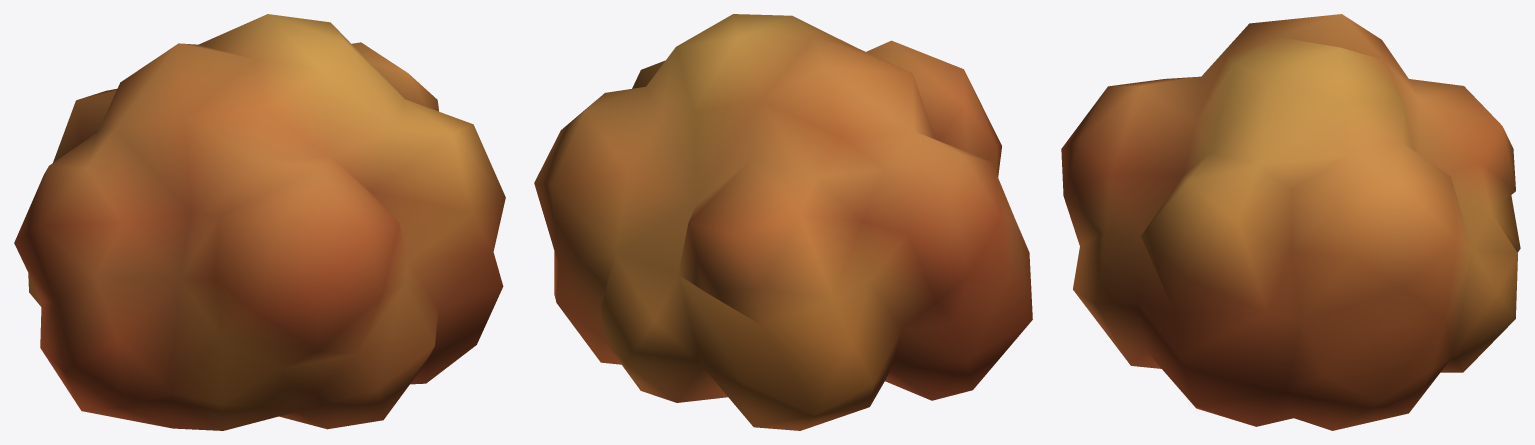
File: bush-a-autumn.lod1.glb
3 renders of one model, left to right at view 1: azimuth 30°, elevation 25°; view 2: azimuth 150°, elevation 25°; view 3: azimuth 270°, elevation 25°, orthographic. The views are drawn at different scales.
Parts seen in each view (by area): view 1: bush-a-autumn.lod1; view 2: bush-a-autumn.lod1; view 3: bush-a-autumn.lod1.
Boxes of the visible parts, left/top/right/bottom form: bush-a-autumn.lod1: left=14, top=14, right=505, bottom=430; bush-a-autumn.lod1: left=534, top=14, right=1032, bottom=430; bush-a-autumn.lod1: left=1061, top=14, right=1520, bottom=430.
Bounding box in the file's own units: 1 × 0.8047 × 0.9672.
